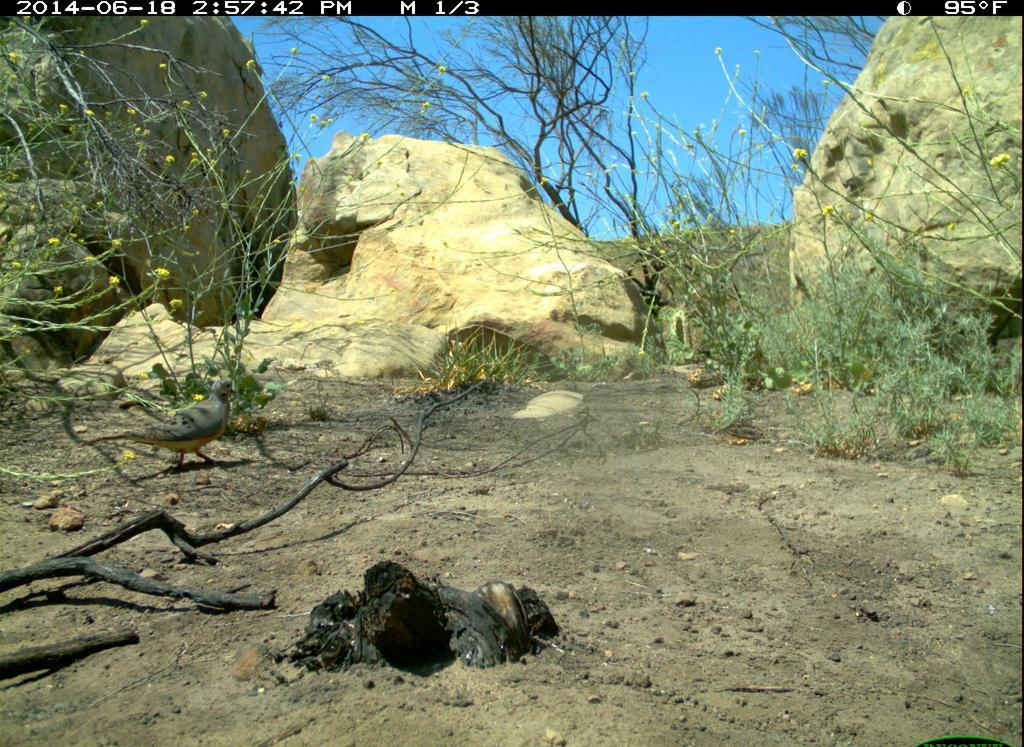bird: (91, 372, 255, 481)
